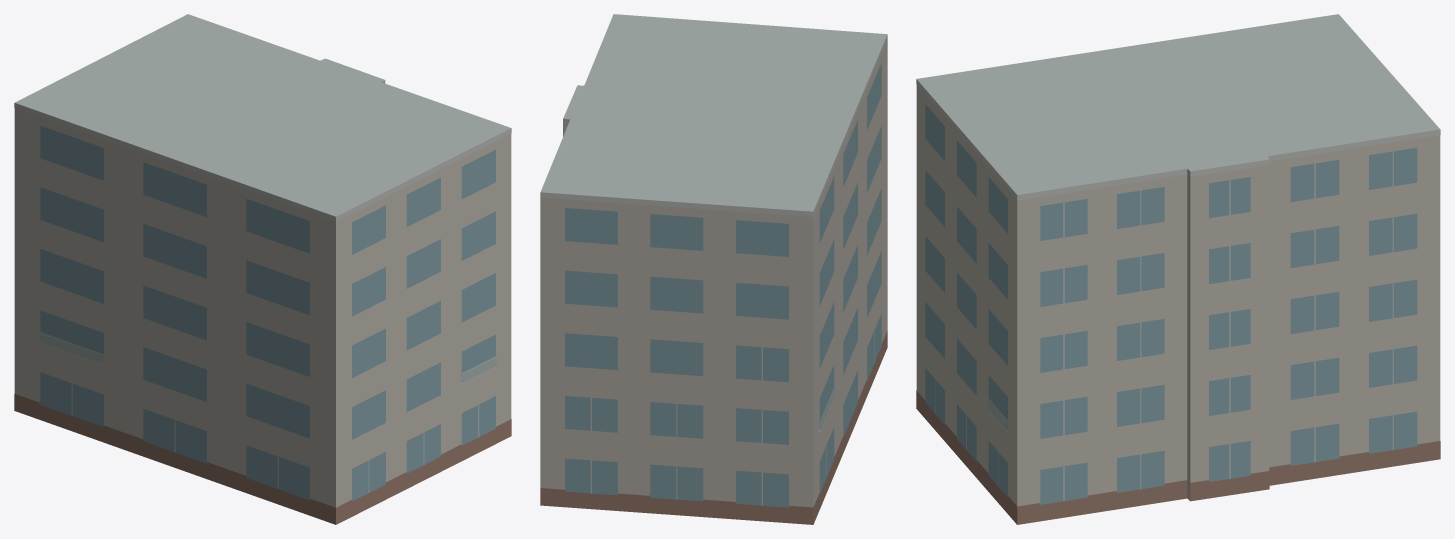
The model's file is survey-upis-32868362.glb.
3 renders of one model, left to right at view 1: azimuth 30°, elevation 25°; view 2: azimuth 150°, elevation 25°; view 3: azimuth 270°, elevation 25°, orthographic. The views are drawn at different scales.
Visible parts, largest first — view 1: survey-upis-32868362.tmp; view 2: survey-upis-32868362.tmp; view 3: survey-upis-32868362.tmp.
Boxes of the visible parts, left/top/right/bottom form: survey-upis-32868362.tmp: left=14, top=14, right=511, bottom=524; survey-upis-32868362.tmp: left=540, top=14, right=887, bottom=524; survey-upis-32868362.tmp: left=916, top=14, right=1440, bottom=524.
Bounding box in the file's own units: 17.09 × 14.5 × 20.89.
